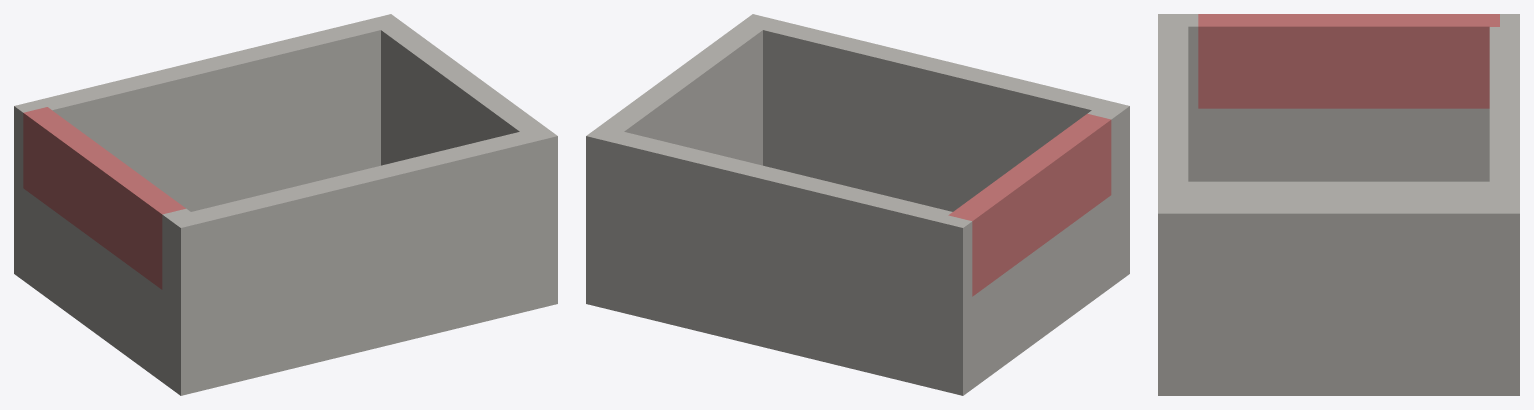
File: step_03.glb
3 renders of one model, left to right at view 1: azimuth 30°, elevation 25°; view 2: azimuth 150°, elevation 25°; view 3: azimuth 270°, elevation 25°, orthographic. The views are drawn at different scales.
Visible parts, largest first — view 1: part__inspection chamber, removed__inspection chamber; view 2: part__inspection chamber, removed__inspection chamber; view 3: part__inspection chamber, removed__inspection chamber.
Boxes of the visible parts, <box> form: part__inspection chamber: <box>14,14,557,395</box>; removed__inspection chamber: <box>23,107,185,289</box>; part__inspection chamber: <box>586,14,1129,395</box>; removed__inspection chamber: <box>948,113,1111,296</box>; part__inspection chamber: <box>1158,14,1519,395</box>; removed__inspection chamber: <box>1198,14,1499,108</box>.
Size of the model in its own units: 2350 by 1000 by 1800.
